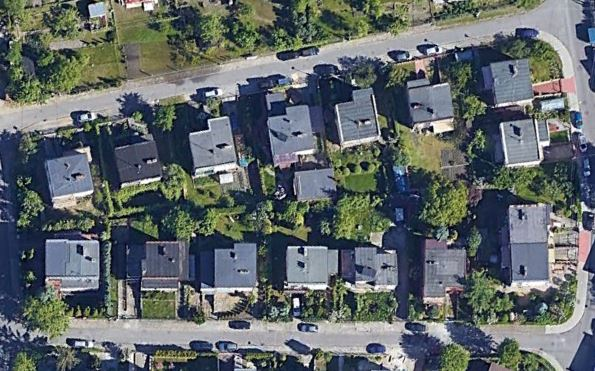family house: (504, 200, 552, 288), (185, 112, 240, 179), (419, 235, 469, 308), (43, 234, 101, 295), (40, 148, 98, 209), (197, 239, 259, 295), (262, 100, 315, 165), (403, 74, 455, 137), (332, 86, 381, 151), (278, 245, 342, 294), (498, 116, 552, 170), (483, 55, 535, 111), (108, 139, 162, 189), (351, 241, 401, 292), (135, 237, 186, 282)
